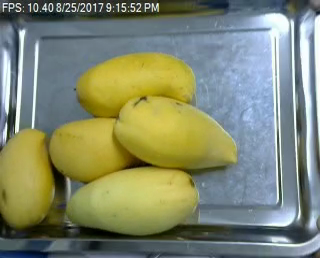Mango: (65, 166, 202, 241), (116, 95, 243, 174), (73, 54, 198, 120), (49, 116, 139, 182), (0, 126, 56, 231)
